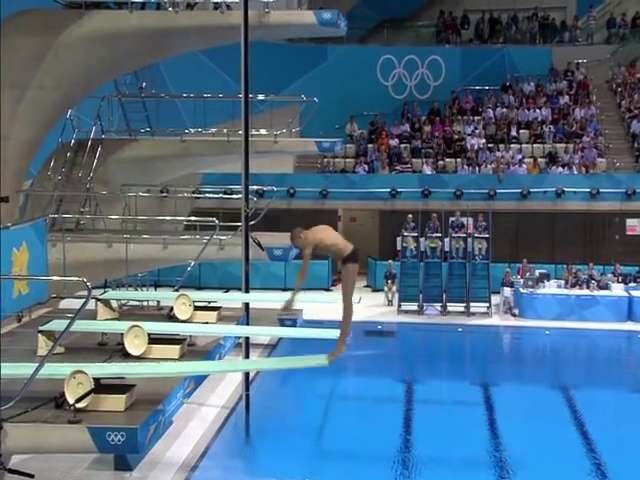diver: (278, 223, 361, 361)
